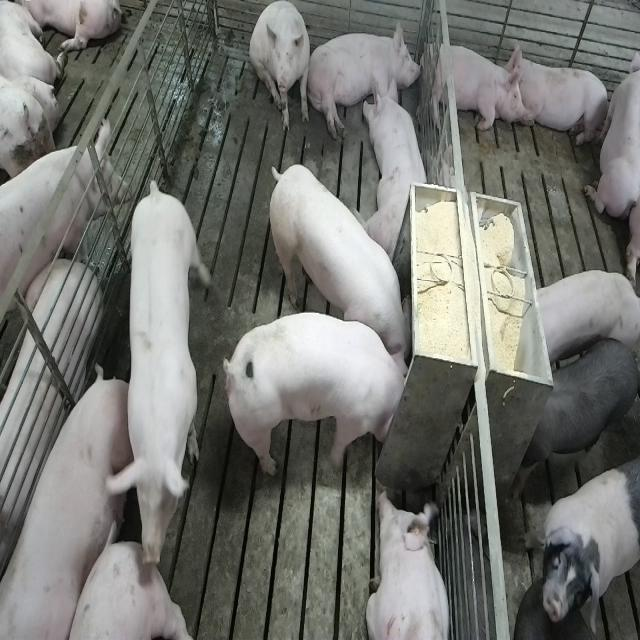Feeding: (220, 315, 410, 482), (263, 161, 412, 360)
Lateral_lying: (0, 366, 139, 640), (307, 18, 424, 142)
Sitting: (250, 1, 312, 134)
Standing: (121, 180, 207, 523), (0, 120, 130, 342), (511, 337, 638, 504), (534, 455, 636, 628), (103, 445, 193, 640), (529, 272, 638, 369)
Sternal_lying: (365, 483, 451, 640), (365, 73, 431, 259), (511, 46, 612, 150), (585, 34, 637, 223), (426, 38, 525, 136)
